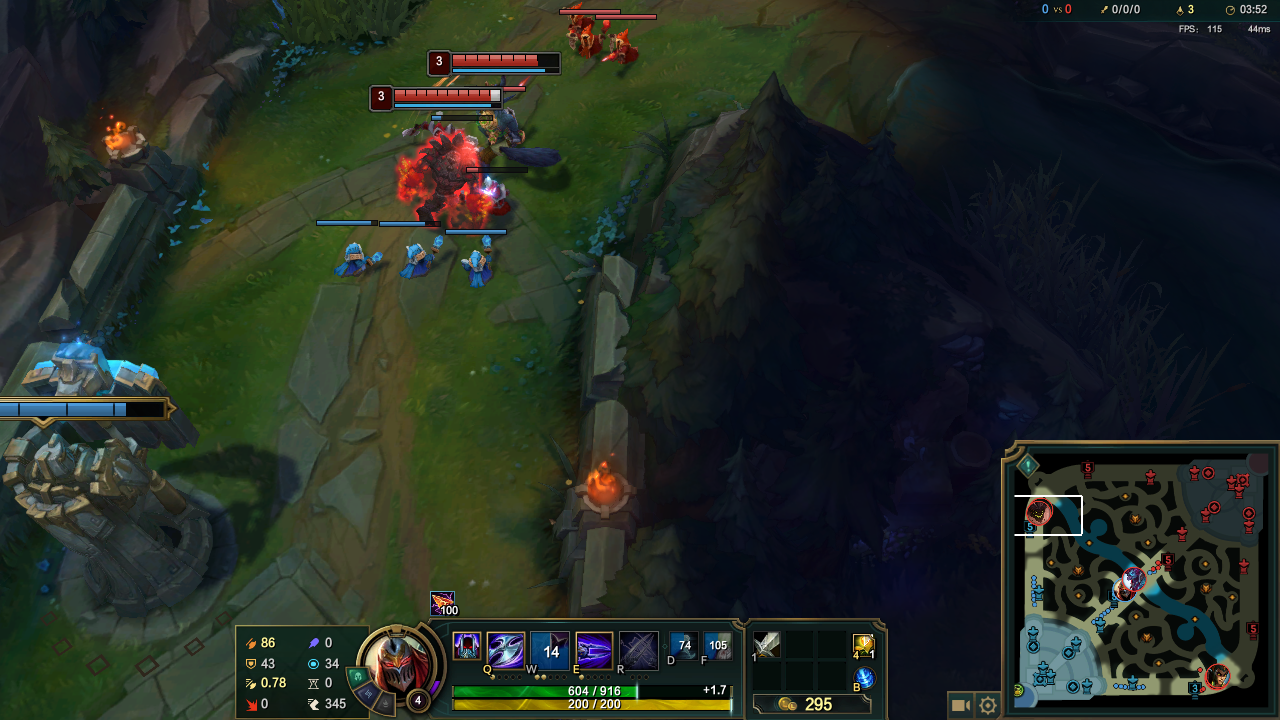DFYX: (450, 52, 561, 74), (394, 88, 501, 106)
